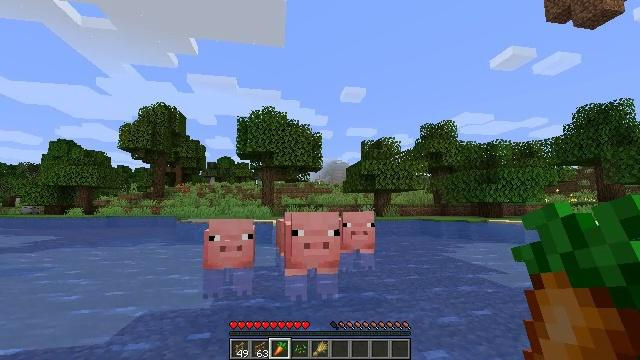pig: (277, 214, 338, 301), (203, 221, 257, 299), (341, 211, 375, 271)
